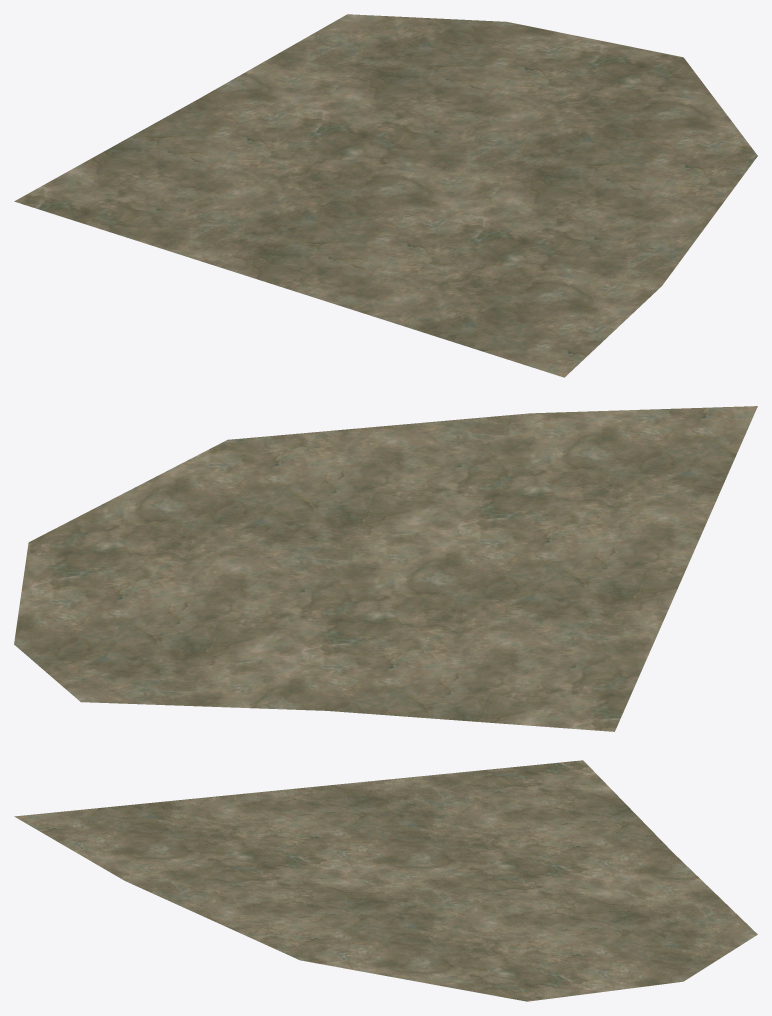
Rendered from OVERHILL_A_01_LINE40.fbx.
The picture shows the model from 3 angles, top to bottom: view 1: azimuth 30°, elevation 25°; view 2: azimuth 150°, elevation 25°; view 3: azimuth 270°, elevation 25°; orthographic projection. The views are drawn at different scales.
Parts seen in each view (by area): view 1: OVERHILL_A_01_LINE40; view 2: OVERHILL_A_01_LINE40; view 3: OVERHILL_A_01_LINE40.
Boxes of the visible parts, <box> form: OVERHILL_A_01_LINE40: <box>14,14,757,377</box>; OVERHILL_A_01_LINE40: <box>14,406,757,731</box>; OVERHILL_A_01_LINE40: <box>14,760,757,1001</box>.
Size of the model in its own units: 45741 by 2337 by 56827.
Materials: 1 (1 with a texture image).
